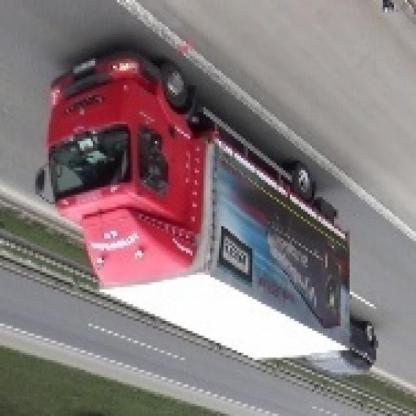truck: (32, 49, 348, 366)
